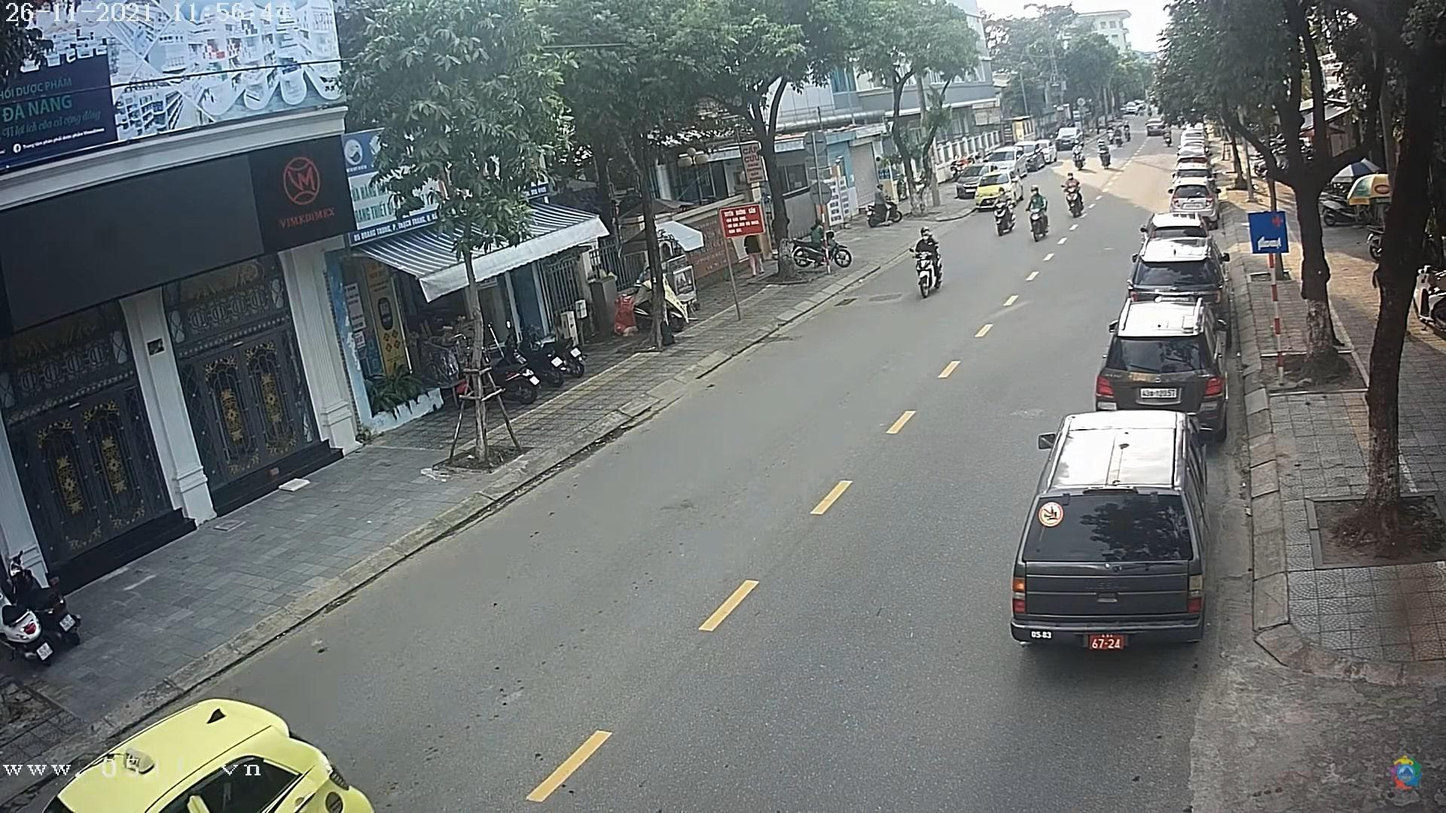car: (1014, 414, 1209, 648), (1096, 298, 1228, 445), (1129, 239, 1227, 301)
motorbike: (913, 246, 945, 299), (992, 202, 1018, 239), (1029, 202, 1052, 241), (1066, 186, 1086, 216)
